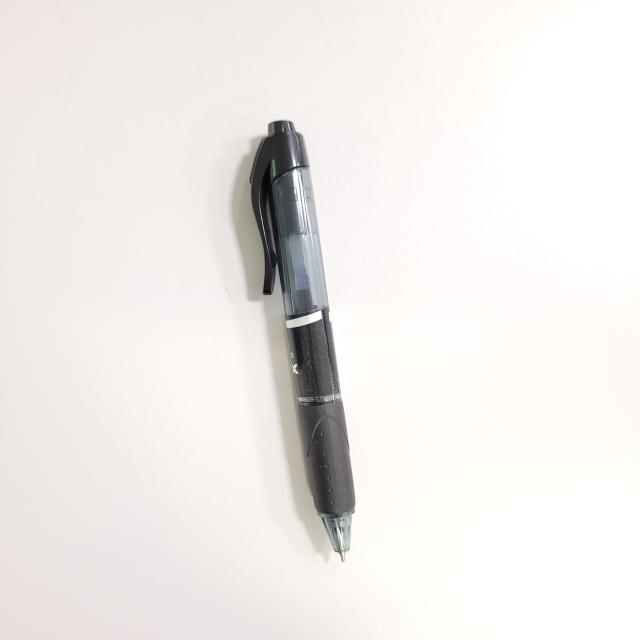caneta: (229, 109, 366, 577)
